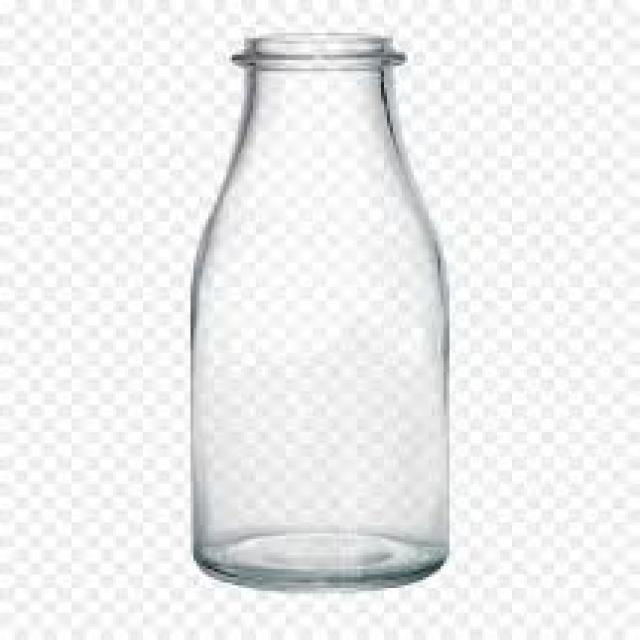glass: (182, 30, 450, 588)
